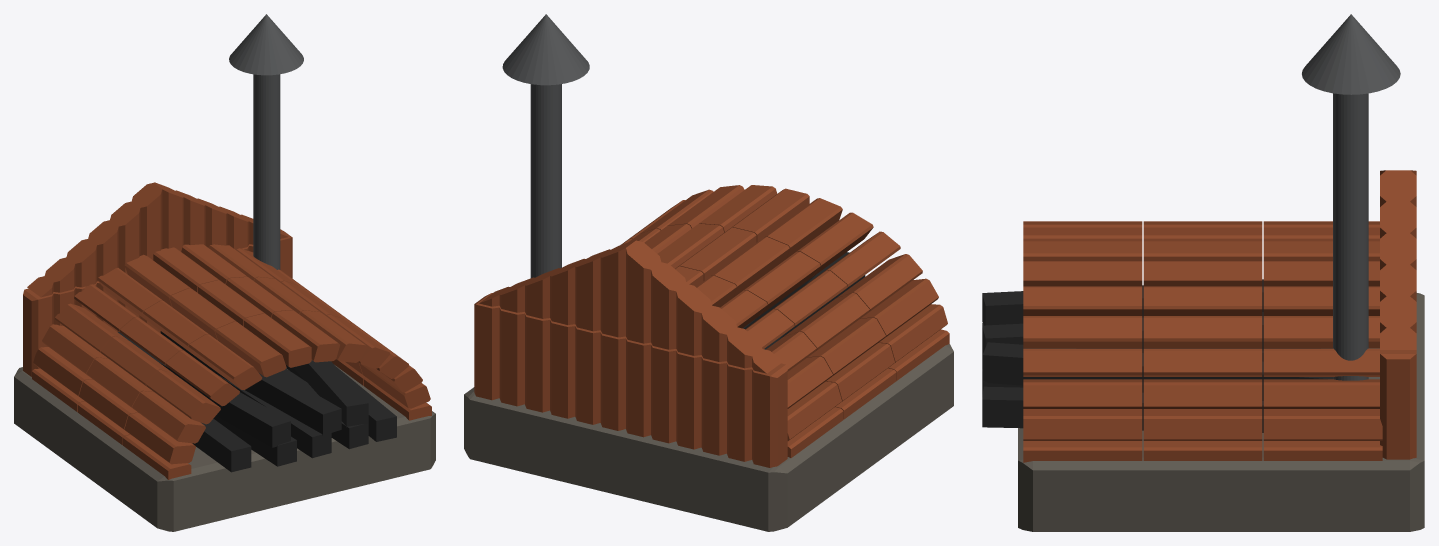
Rendered from Furnace.glb.
3 views of the same model, side by side, from view 1: azimuth 30°, elevation 25°; view 2: azimuth 150°, elevation 25°; view 3: azimuth 270°, elevation 25° (orthographic). The views are drawn at different scales.
Visible parts, largest first — view 1: Cube, Cube.001, Cube.002, Cylinder, Cube.009, Cone, Cube.010, Cube.008, Cube.003, Cube.005, Cube.007, Cube.004 (+1 smaller); view 2: Cube.002, Cube, Cube.001, Cylinder, Cone; view 3: Cube, Cube.001, Cube.002, Cylinder, Cone, Cube.008, Cube.007, Cube.010, Cube.009.
Part boxes in pixels (<box>): Cube: <box>32,244,431,479</box>; Cube.001: <box>14,365,435,531</box>; Cube.002: <box>23,182,292,376</box>; Cylinder: <box>253,74,280,269</box>; Cube.009: <box>160,331,341,435</box>; Cone: <box>229,14,303,75</box>; Cube.010: <box>118,332,290,447</box>; Cube.008: <box>293,360,368,427</box>; Cube.003: <box>192,419,251,472</box>; Cube.005: <box>217,374,331,458</box>; Cube.007: <box>286,365,396,441</box>; Cube.004: <box>213,416,296,466</box>; Cube.002: <box>474,240,787,467</box>; Cube: <box>621,185,949,457</box>; Cube.001: <box>464,344,953,531</box>; Cylinder: <box>530,84,561,277</box>; Cone: <box>502,14,589,85</box>; Cube: <box>1023,221,1382,462</box>; Cube.001: <box>1018,293,1424,531</box>; Cube.002: <box>1380,170,1416,459</box>; Cylinder: <box>1333,93,1368,380</box>; Cone: <box>1302,14,1400,94</box>; Cube.008: <box>982,342,1332,400</box>; Cube.007: <box>982,386,1263,432</box>; Cube.010: <box>982,279,1263,325</box>; Cube.009: <box>982,312,1320,354</box>.
Size of the model in its own units: 8.56 by 10.98 by 8.95.
